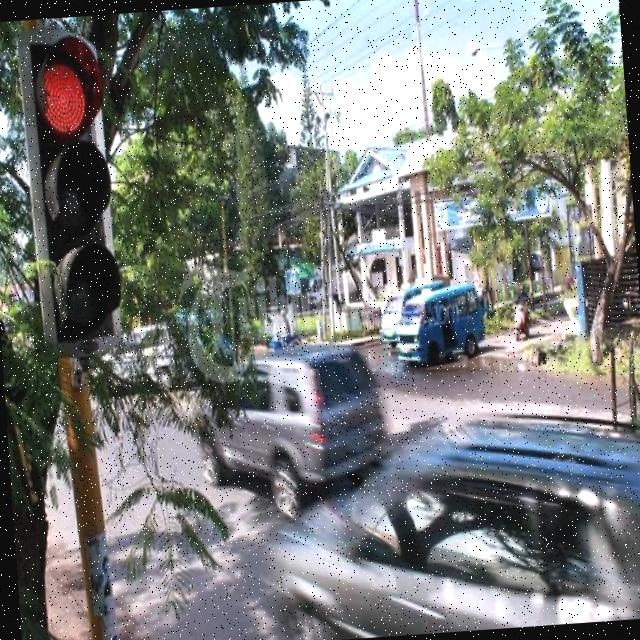Czerwone swiatlo: (28, 31, 124, 352)
